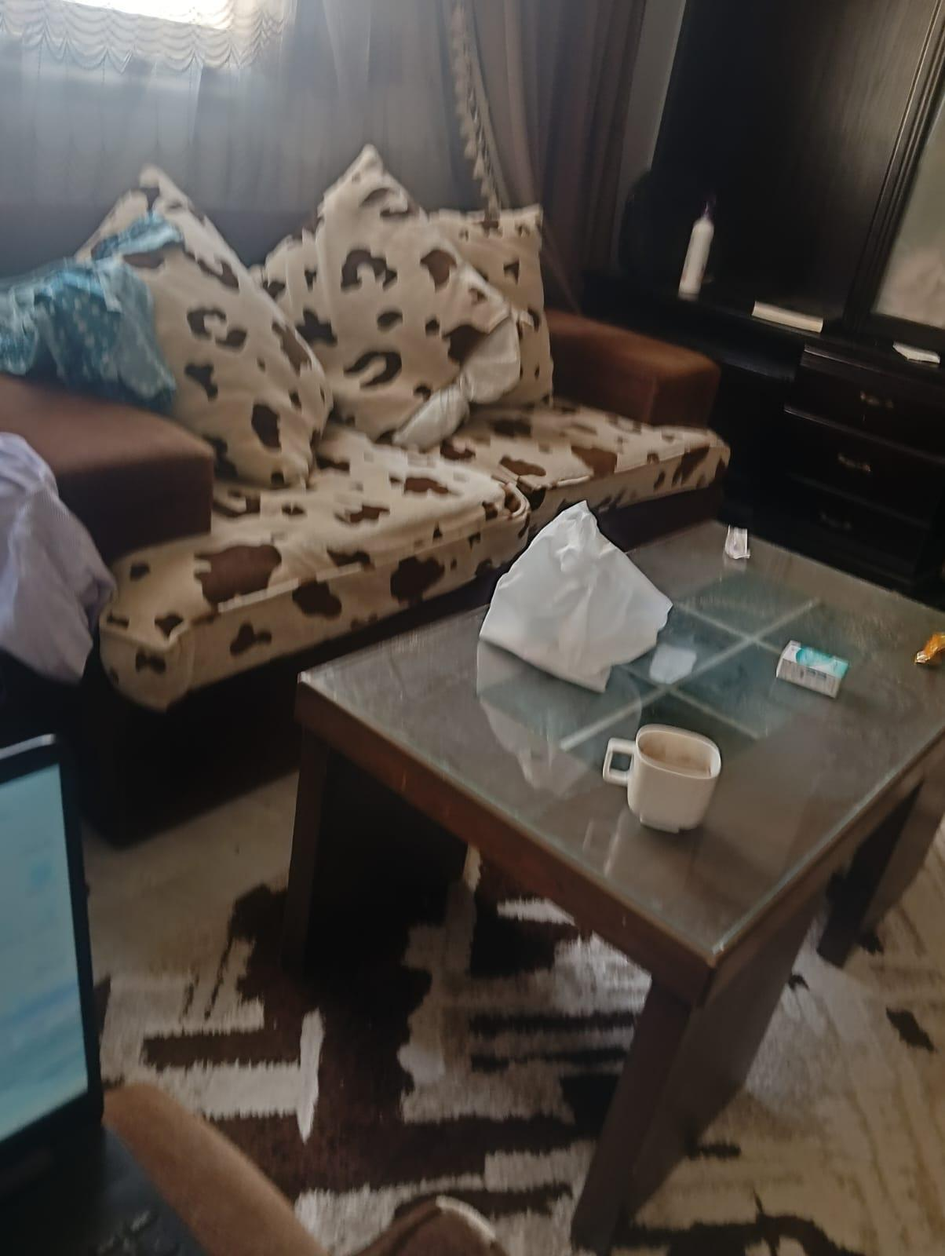cup: (603, 726, 721, 831)
